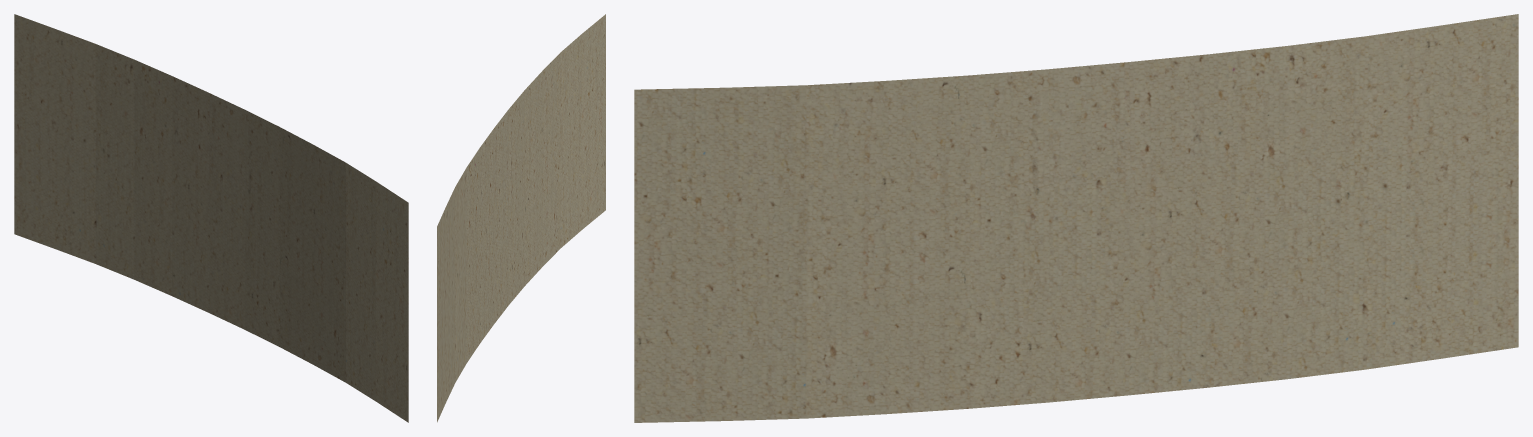
Rendered from Parede auditorio.fbx.
3 views of the same model, side by side, from view 1: azimuth 30°, elevation 25°; view 2: azimuth 150°, elevation 25°; view 3: azimuth 270°, elevation 25° (orthographic). The views are drawn at different scales.
Parts seen in each view (by area): view 1: auditorio 03; view 2: auditorio 03; view 3: auditorio 03.
Part boxes in pixels (bbox=[...]): auditorio 03: bbox=[14, 14, 408, 422]; auditorio 03: bbox=[437, 14, 605, 422]; auditorio 03: bbox=[634, 14, 1518, 422].
Size of the model in its own units: 1.22 by 2.5 by 6.01.
Materials: 1 (1 with a texture image).
